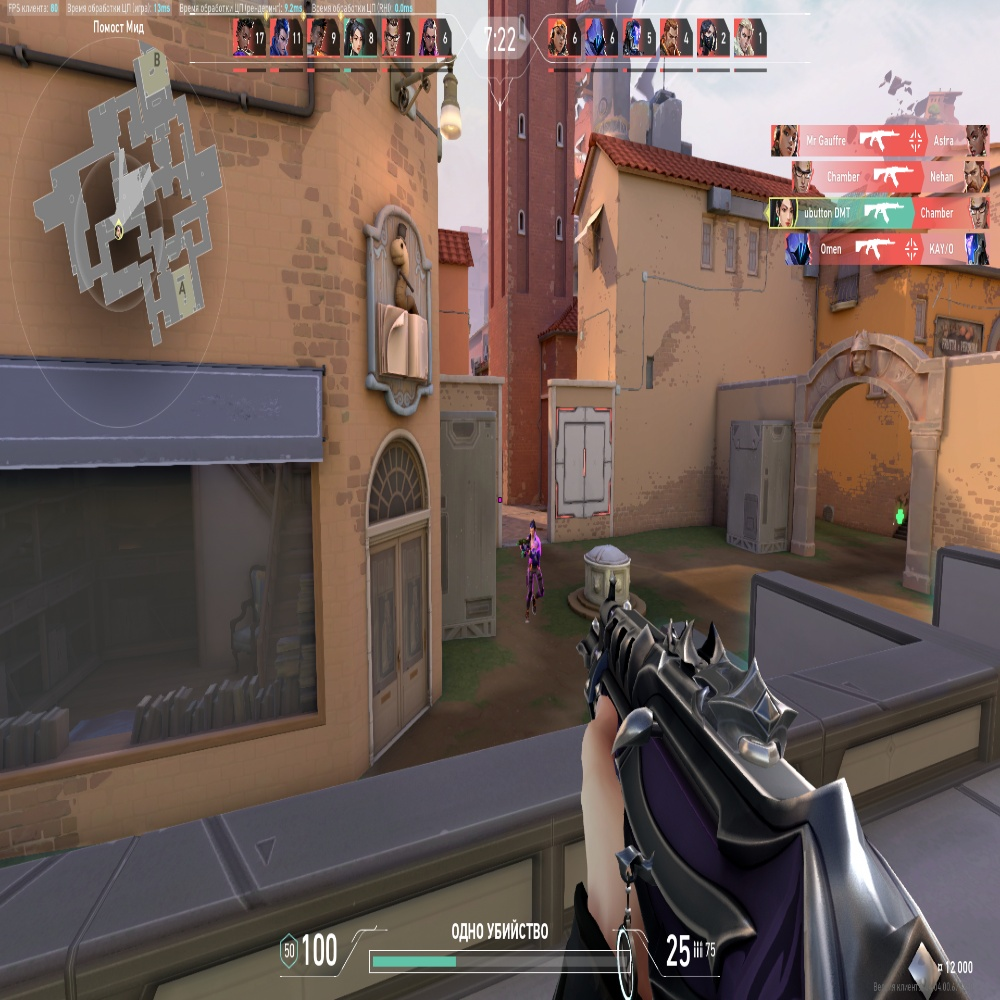body: (527, 541, 542, 570)
head: (529, 522, 536, 538)
